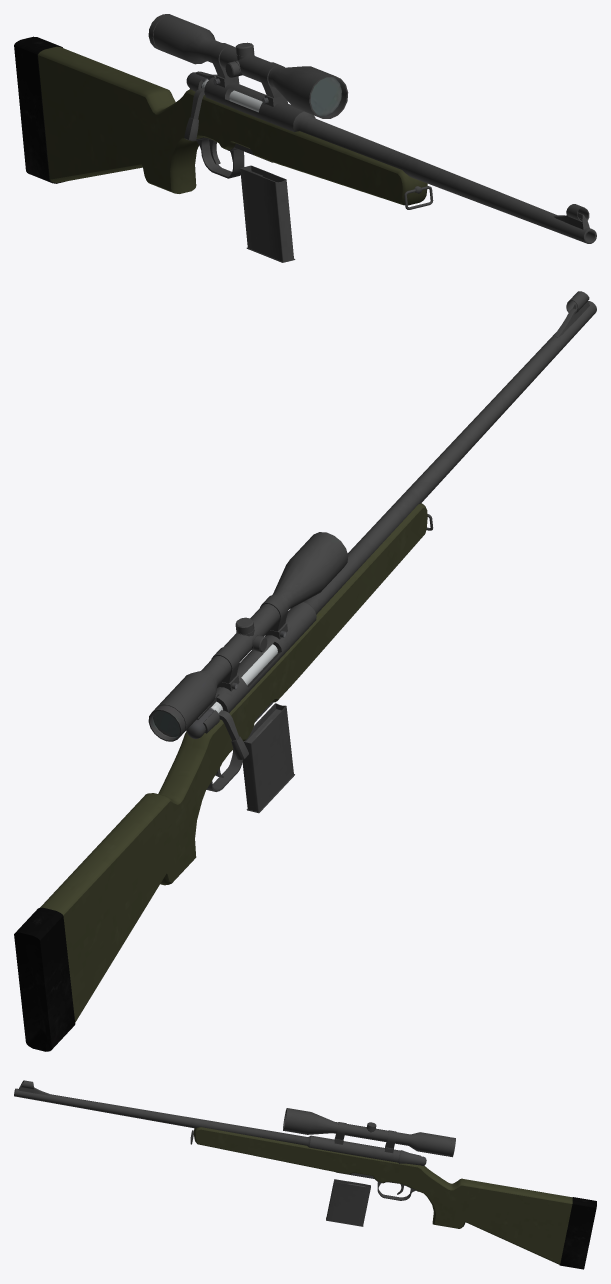
File: sniper_cc0.medium.glb
3 renders of one model, top to bottom at view 1: azimuth 30°, elevation 25°; view 2: azimuth 150°, elevation 25°; view 3: azimuth 270°, elevation 25°, orthographic. The views are drawn at different scales.
Parts seen in each view (by area): view 1: Trigger; view 2: Trigger; view 3: Trigger.
Part boxes in pixels (x1,y1,x2,y2): Trigger: (14,14,596,262); Trigger: (14,291,596,1051); Trigger: (14,1080,596,1269).
Bounding box in the file's own units: 0.0583 × 0.4072 × 1.15.
Materials: 1 (1 with a texture image).
